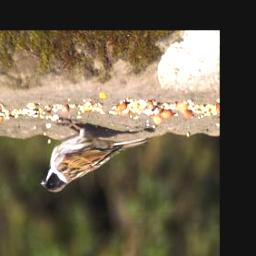Sparrow: (38, 120, 147, 194)
